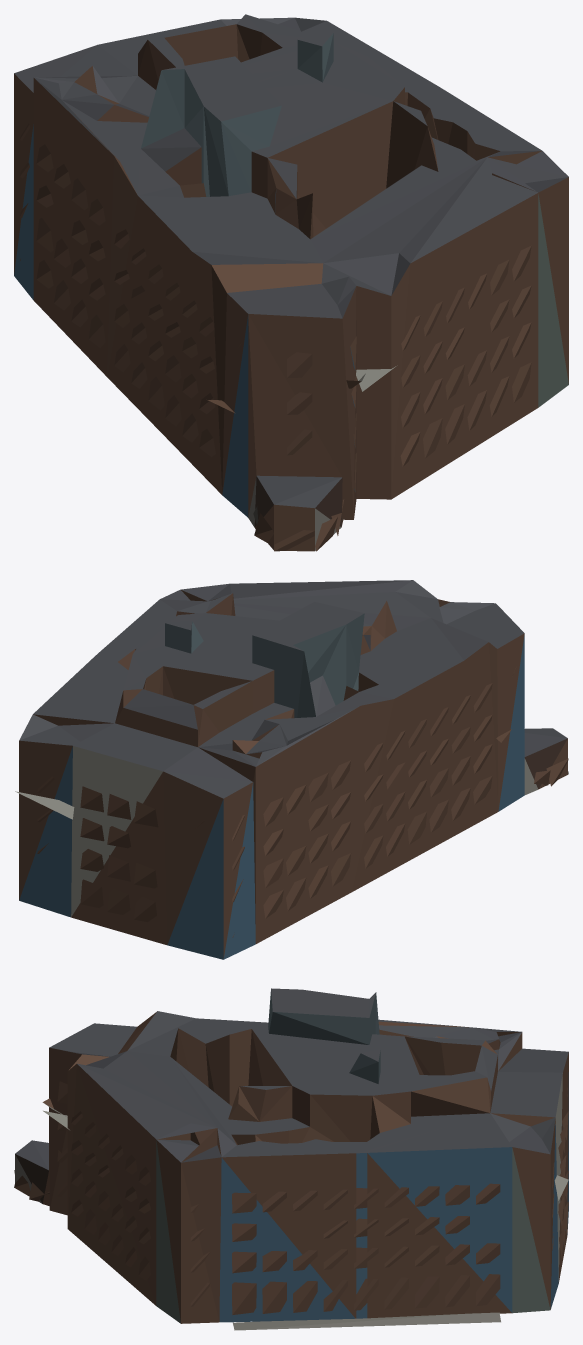
Rendered from telefooncentrale-spuistraat.lod2.glb.
3 renders of one model, top to bottom at view 1: azimuth 30°, elevation 25°; view 2: azimuth 150°, elevation 25°; view 3: azimuth 270°, elevation 25°, orthographic. The views are drawn at different scales.
Parts seen in each view (by area): view 1: lod2; view 2: lod2; view 3: lod2.
Boxes of the visible parts, x1,y1,x2,y2 form: lod2: (14,14,568,551); lod2: (15,580,568,959); lod2: (14,988,568,1330).
Size of the model in its own units: 48.83 by 32.9 by 73.24.
